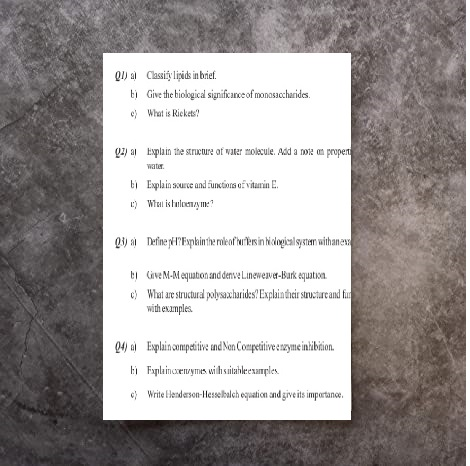questionPaper: (105, 56, 355, 419)
